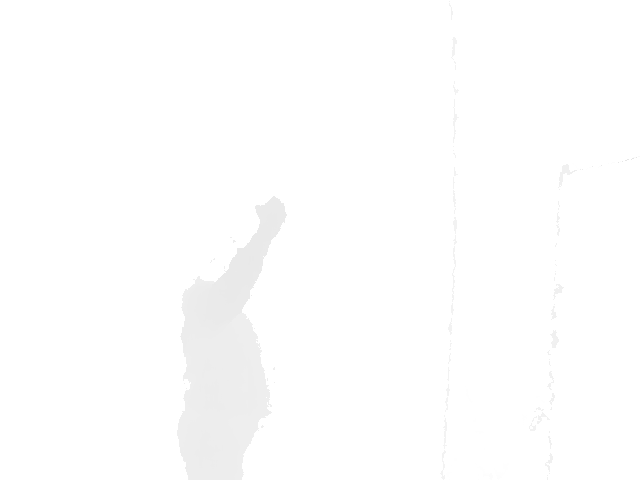hand: (254, 194, 288, 237)
person: (175, 194, 289, 480)
